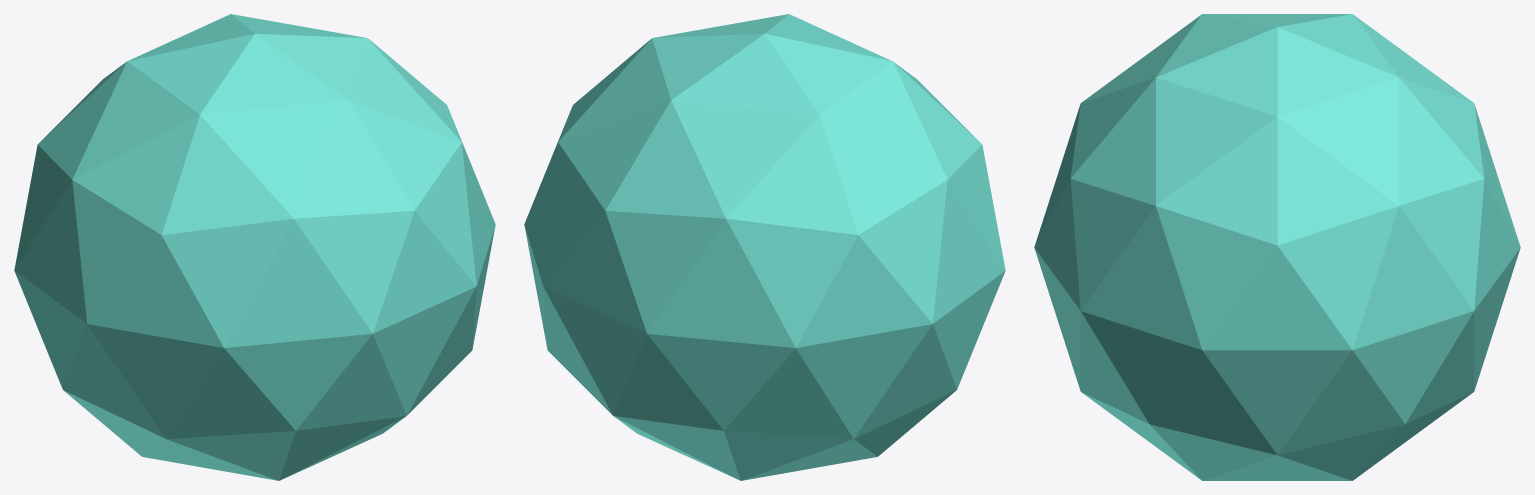
Rendered from Item.Mesh.TEST.fbx.
The picture shows the model from 3 angles, left to right: view 1: azimuth 30°, elevation 25°; view 2: azimuth 150°, elevation 25°; view 3: azimuth 270°, elevation 25°; orthographic projection. The views are drawn at different scales.
Parts seen in each view (by area): view 1: Icosphere; view 2: Icosphere; view 3: Icosphere.
Part boxes in pixels (x1,y1,x2,y2): Icosphere: [14, 14, 495, 480]; Icosphere: [524, 14, 1005, 480]; Icosphere: [1034, 14, 1520, 480].
Bounding box in the file's own units: 50 × 50 × 50.
